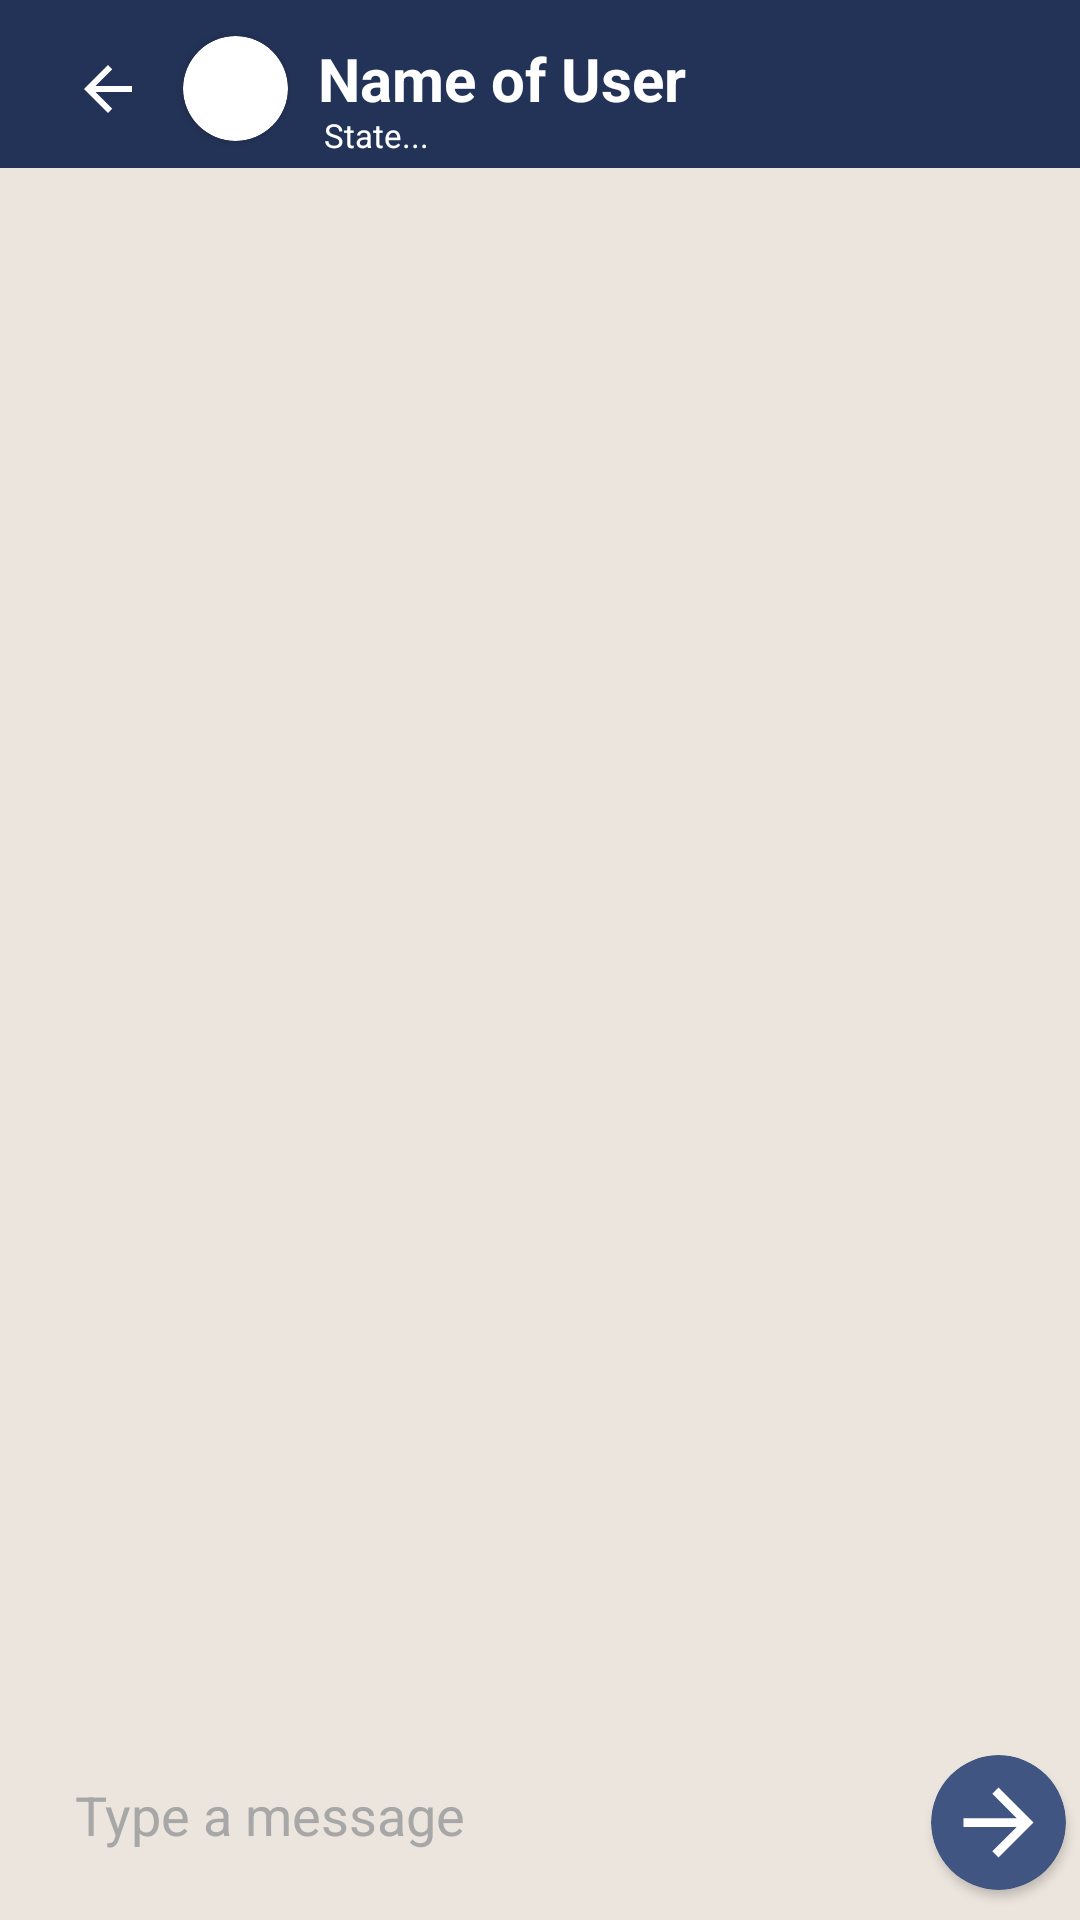

Where to tap for icons on this 1080 × 1920 app screen, as (x,y):
arrow back: (108,89)
arrow forward: (998,1822)
